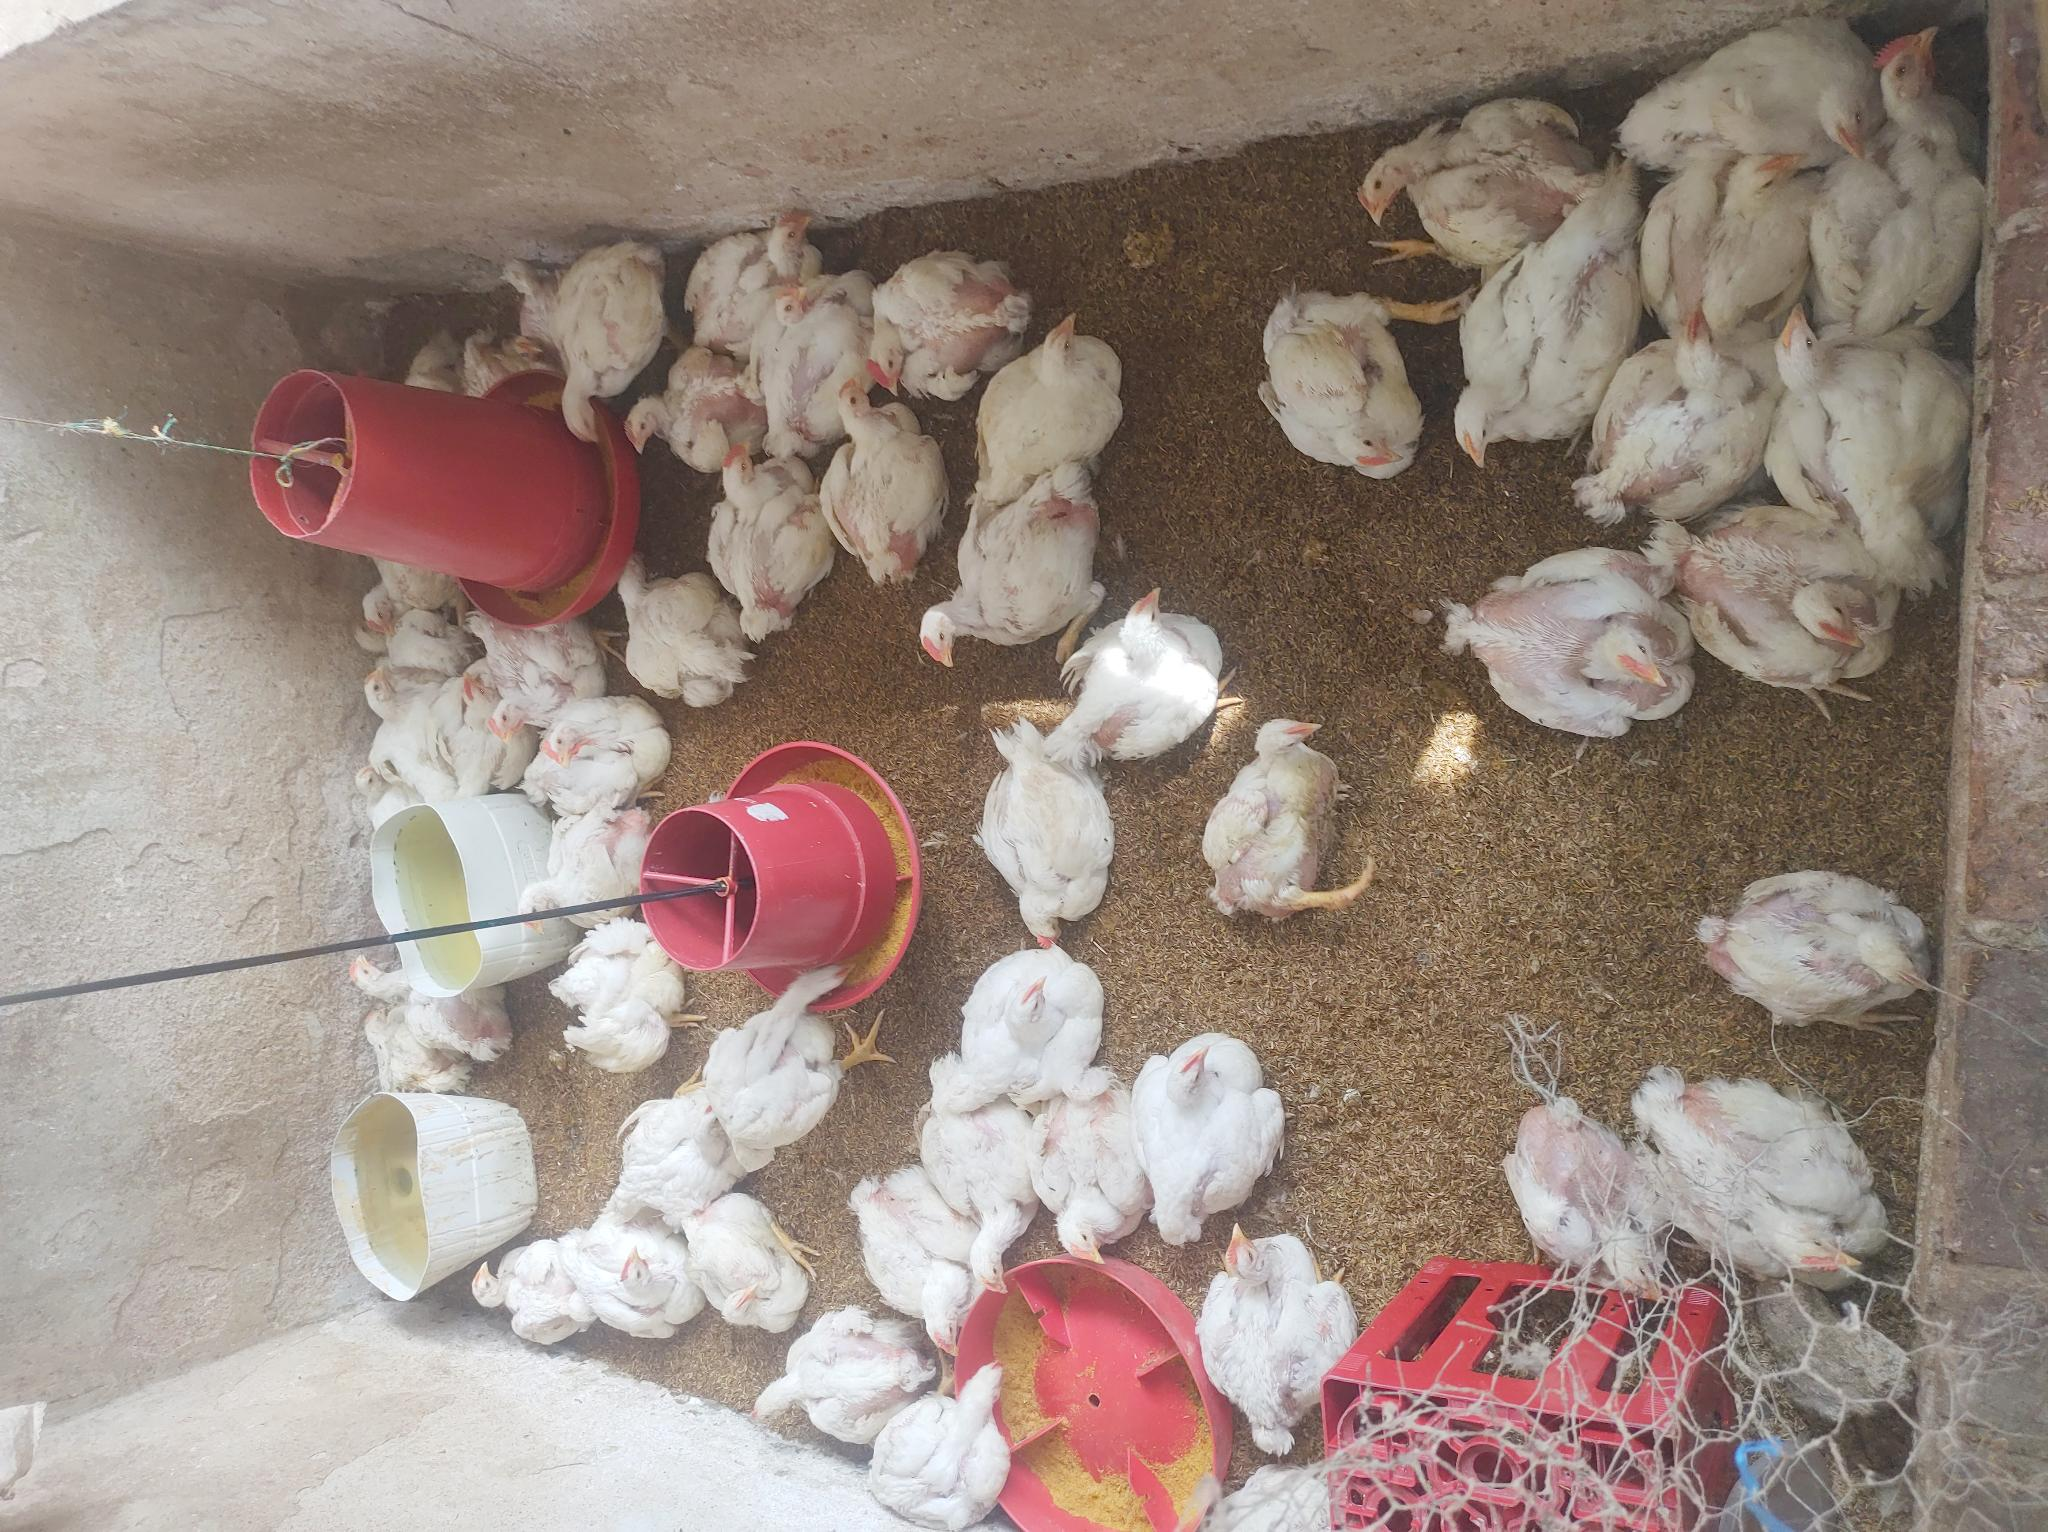Pollos: (1635, 1056, 1964, 1315), (1821, 27, 2006, 330), (1765, 306, 1976, 570), (1696, 846, 1961, 1041), (1691, 475, 1897, 719), (1350, 71, 1593, 267), (1453, 547, 1688, 748), (1630, 6, 1889, 180), (912, 451, 1108, 676), (951, 703, 1128, 949), (1581, 301, 1771, 521), (1194, 713, 1384, 930), (1454, 196, 1602, 465), (1495, 1094, 1672, 1316), (705, 957, 886, 1167), (856, 1357, 1078, 1526), (825, 1167, 1022, 1353), (1245, 280, 1424, 483), (335, 937, 523, 1115), (1133, 1032, 1298, 1233), (959, 304, 1134, 489), (899, 1065, 1047, 1283), (1651, 146, 1810, 343), (1195, 1213, 1335, 1435), (943, 937, 1121, 1109), (714, 1307, 920, 1448), (812, 377, 944, 591), (1075, 579, 1232, 756), (1022, 1065, 1152, 1279), (866, 235, 1036, 389), (602, 539, 748, 706), (516, 800, 676, 946), (703, 446, 825, 636), (671, 1189, 812, 1352), (560, 1205, 701, 1366), (602, 1052, 751, 1204), (544, 937, 698, 1081), (758, 262, 888, 431), (553, 261, 664, 451), (1186, 1440, 1408, 1532), (661, 191, 829, 311), (537, 686, 677, 821), (621, 343, 763, 470), (454, 1236, 574, 1374), (492, 612, 607, 732), (360, 669, 481, 772), (352, 537, 468, 628), (393, 311, 487, 401), (496, 257, 587, 343), (335, 755, 436, 817), (344, 612, 423, 676), (462, 663, 516, 706)
